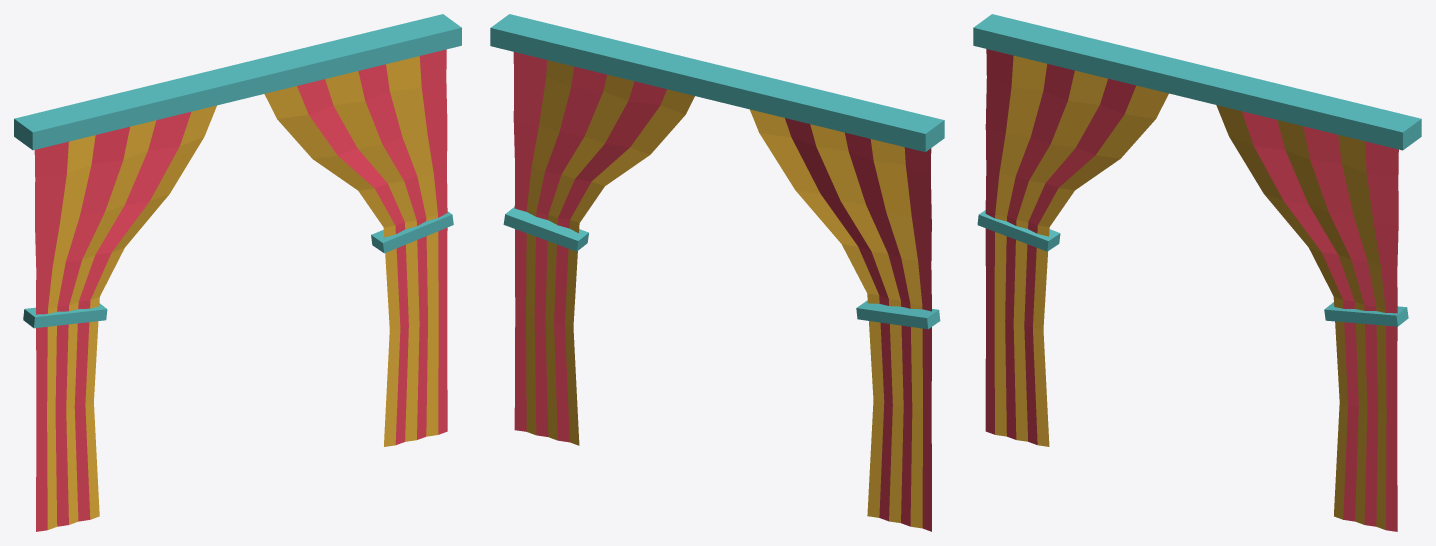
Rendered from Curtains.fbx.
3 views of the same model, side by side, from view 1: azimuth 30°, elevation 25°; view 2: azimuth 150°, elevation 25°; view 3: azimuth 330°, elevation 25° (orthographic).
Visible parts, largest first — view 1: Curtain; view 2: Curtain; view 3: Curtain.
Part boxes in pixels (bbox=[...]): Curtain: bbox=[14, 14, 461, 531]; Curtain: bbox=[490, 14, 944, 531]; Curtain: bbox=[973, 14, 1421, 531].
Bounding box in the file's own units: 244 × 220 × 18.42.
